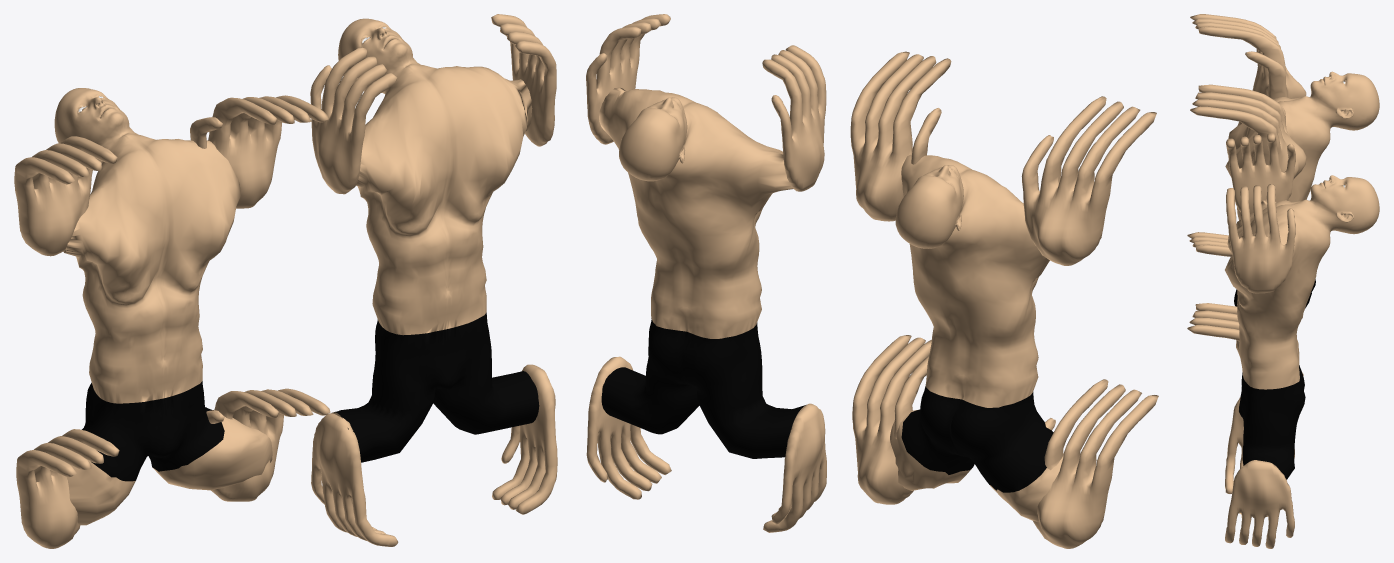
Rendered from Meat Car.fbx.
The picture shows the model from 3 angles, left to right: view 1: azimuth 30°, elevation 25°; view 2: azimuth 150°, elevation 25°; view 3: azimuth 270°, elevation 25°; orthographic projection. The views are drawn at different scales.
Parts seen in each view (by area): view 1: Human Car.006, Body, Front Right, Mball.012, Front Left, Back Right, Mball.014, Mball.013, Back Left, Mball.011; view 2: Human Car.006, Body, Front Right, Back Right, Front Left, Back Left, Mball.012, Mball.013, Mball.014, Mball.011; view 3: Human Car.006, Body, Mball.011, Mball.013, Front Left, Front Right, Mball.012, Back Left, Mball.014, Back Right.
Boxes of the visible parts, x1=… form: Human Car.006: x1=331, y1=18, x2=539, y2=462; Body: x1=54, y1=88, x2=272, y2=525; Front Right: x1=14, y1=136, x2=117, y2=256; Mball.012: x1=310, y1=47, x2=397, y2=194; Front Left: x1=190, y1=95, x2=328, y2=208; Back Right: x1=16, y1=429, x2=119, y2=548; Mball.014: x1=311, y1=413, x2=398, y2=546; Mball.013: x1=492, y1=364, x2=557, y2=514; Back Left: x1=206, y1=388, x2=330, y2=501; Mball.011: x1=491, y1=14, x2=556, y2=146; Human Car.006: x1=599, y1=87, x2=809, y2=458; Body: x1=890, y1=154, x2=1063, y2=521; Front Right: x1=1021, y1=96, x2=1156, y2=265; Back Right: x1=1033, y1=379, x2=1158, y2=548; Front Left: x1=850, y1=51, x2=951, y2=221; Back Left: x1=852, y1=335, x2=931, y2=504; Mball.012: x1=762, y1=45, x2=826, y2=191; Mball.013: x1=586, y1=356, x2=671, y2=499; Mball.014: x1=763, y1=403, x2=826, y2=532; Mball.011: x1=586, y1=14, x2=670, y2=144; Human Car.006: x1=1225, y1=175, x2=1379, y2=479; Body: x1=1225, y1=71, x2=1379, y2=357; Mball.011: x1=1226, y1=184, x2=1295, y2=293; Mball.013: x1=1225, y1=460, x2=1294, y2=548; Front Left: x1=1190, y1=84, x2=1306, y2=178; Front Right: x1=1190, y1=14, x2=1306, y2=99; Mball.012: x1=1226, y1=133, x2=1295, y2=213; Back Left: x1=1187, y1=303, x2=1303, y2=375; Mball.014: x1=1225, y1=397, x2=1294, y2=493; Back Right: x1=1187, y1=232, x2=1303, y2=318.
Size of the model in its own units: 56024 by 48942 by 23556.
